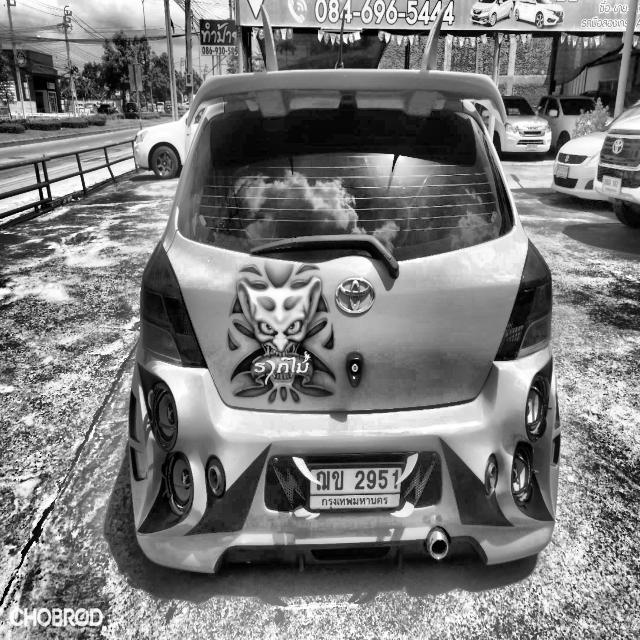license-plate: (306, 463, 406, 516)
